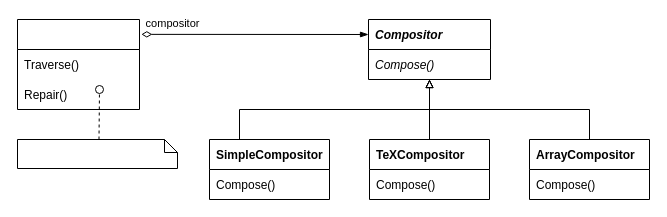
Some shapes in this 667 by 217 pixel diagram are drawn without their labels. Each missing label, with the box of its shape:
Composition: (16, 18, 140, 110)
compositor->Compose(): (16, 138, 178, 168)
